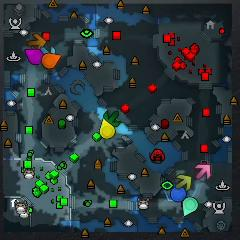p1: (171, 186, 186, 202)
p2: (182, 197, 199, 217)
p3: (25, 49, 44, 64)
p4: (99, 120, 115, 139)
p5: (42, 53, 62, 68)
x1: (196, 164, 211, 179)
x2: (177, 174, 191, 190)
x3: (42, 47, 56, 55)
x4: (104, 111, 120, 127)
x5: (28, 33, 46, 49)
